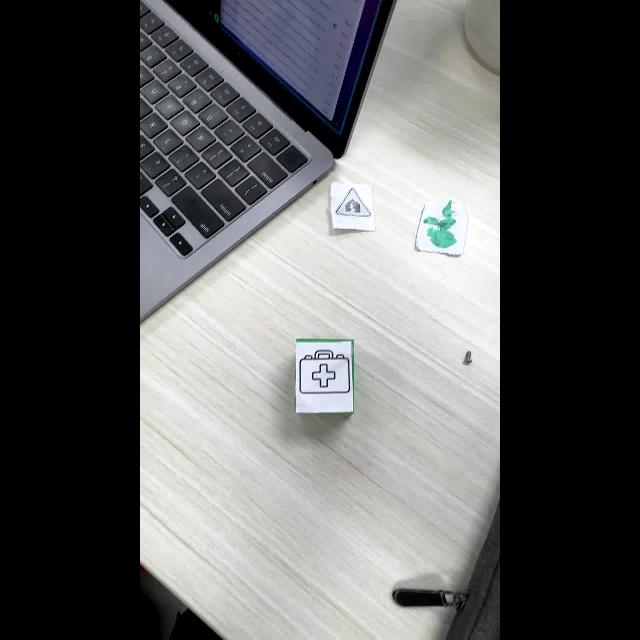Medkit: (298, 350, 350, 396)
